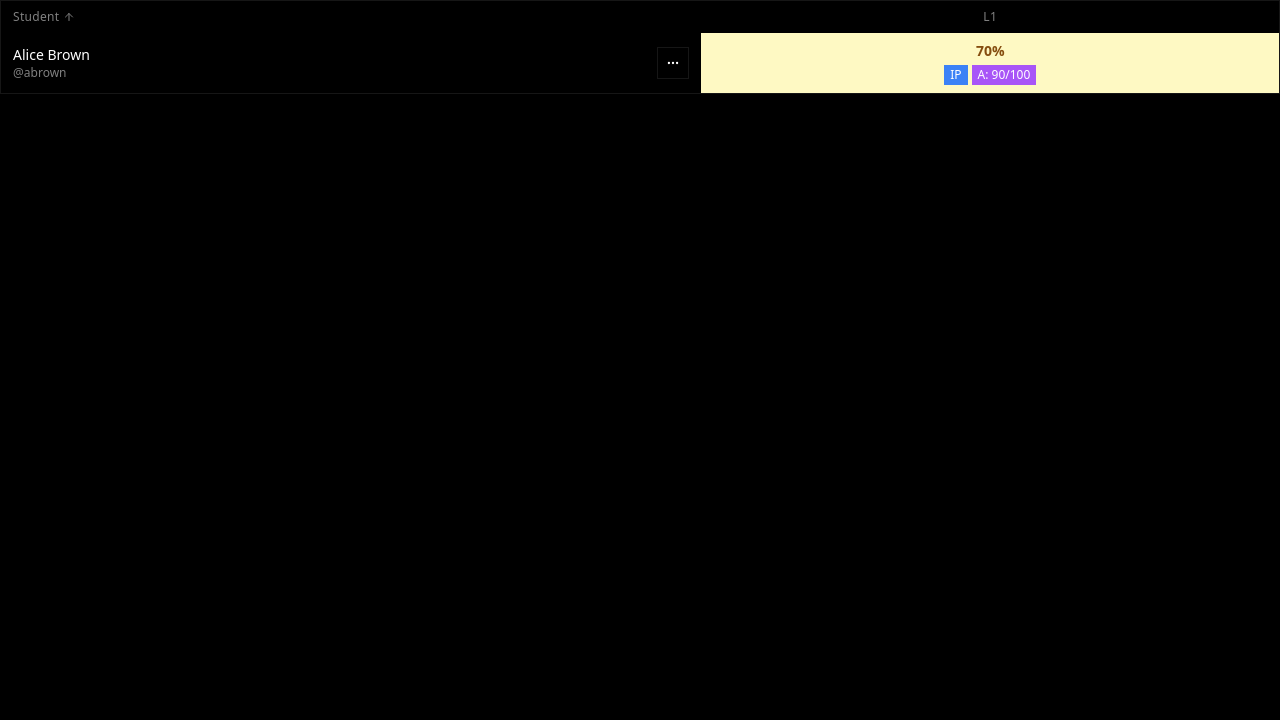
Gradebook Drill-Down Integration › passes independent practice and assessment status to modal when clicked
Expected: the cell is shown, [702, 33, 1279, 93]
Click the button "70% IP A: 90/100": click(990, 63) [710, 37, 1271, 89]
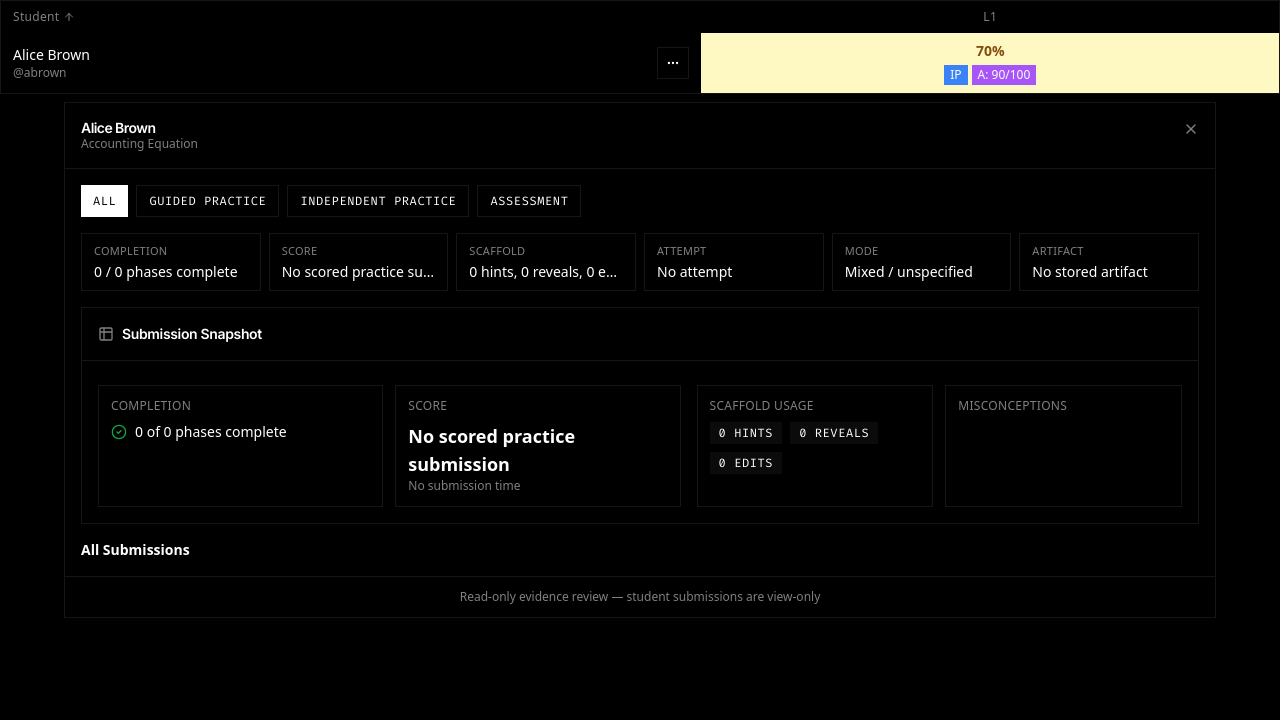
Expected: the dialog is shown
Expected: the heading "Alice Brown" is shown, [81, 119, 155, 136]
Expected: the text "Accounting Equation" is shown, [81, 136, 198, 152]
